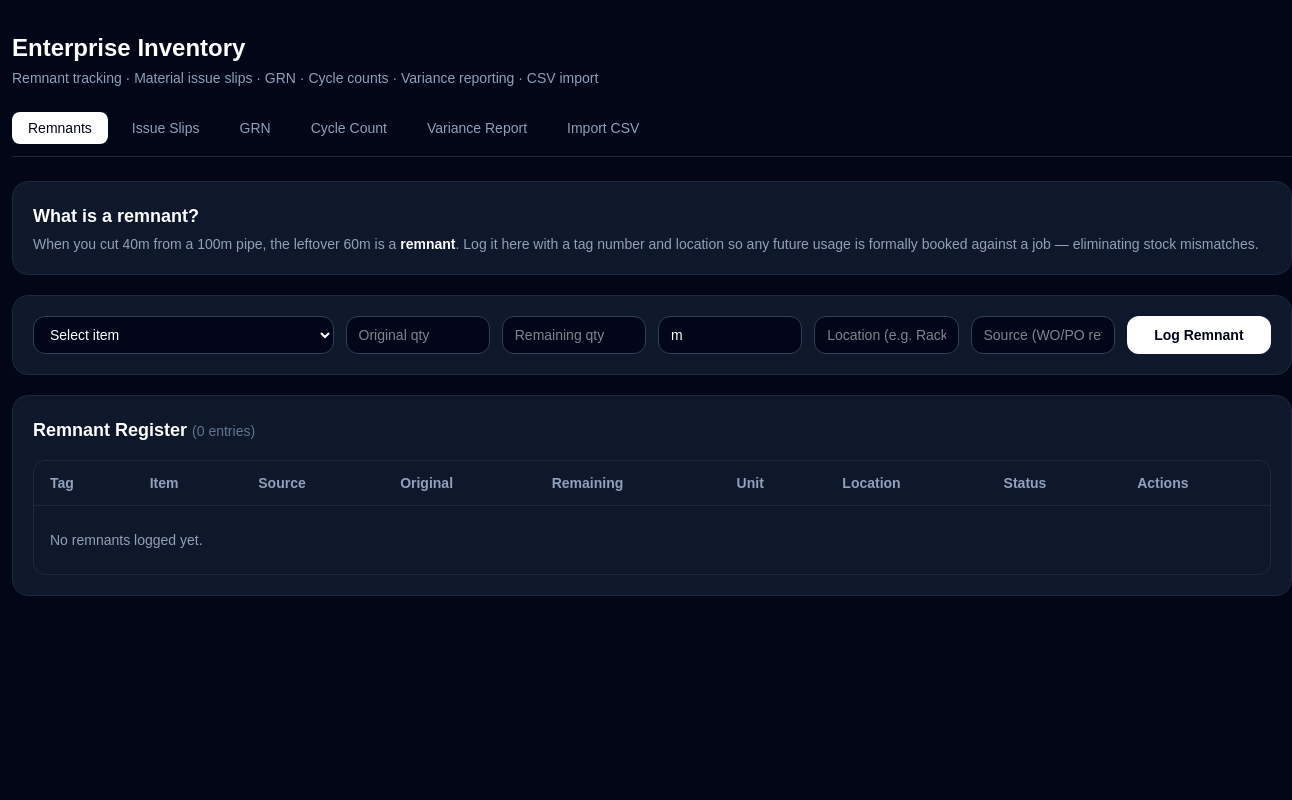
Test: an Admin is offered everything › including the count approval and the CSV import
The image size is (1292, 800).
Click the button "Cycle Count" at coordinates (349, 128), box x1=295 y1=112 x2=403 y2=144
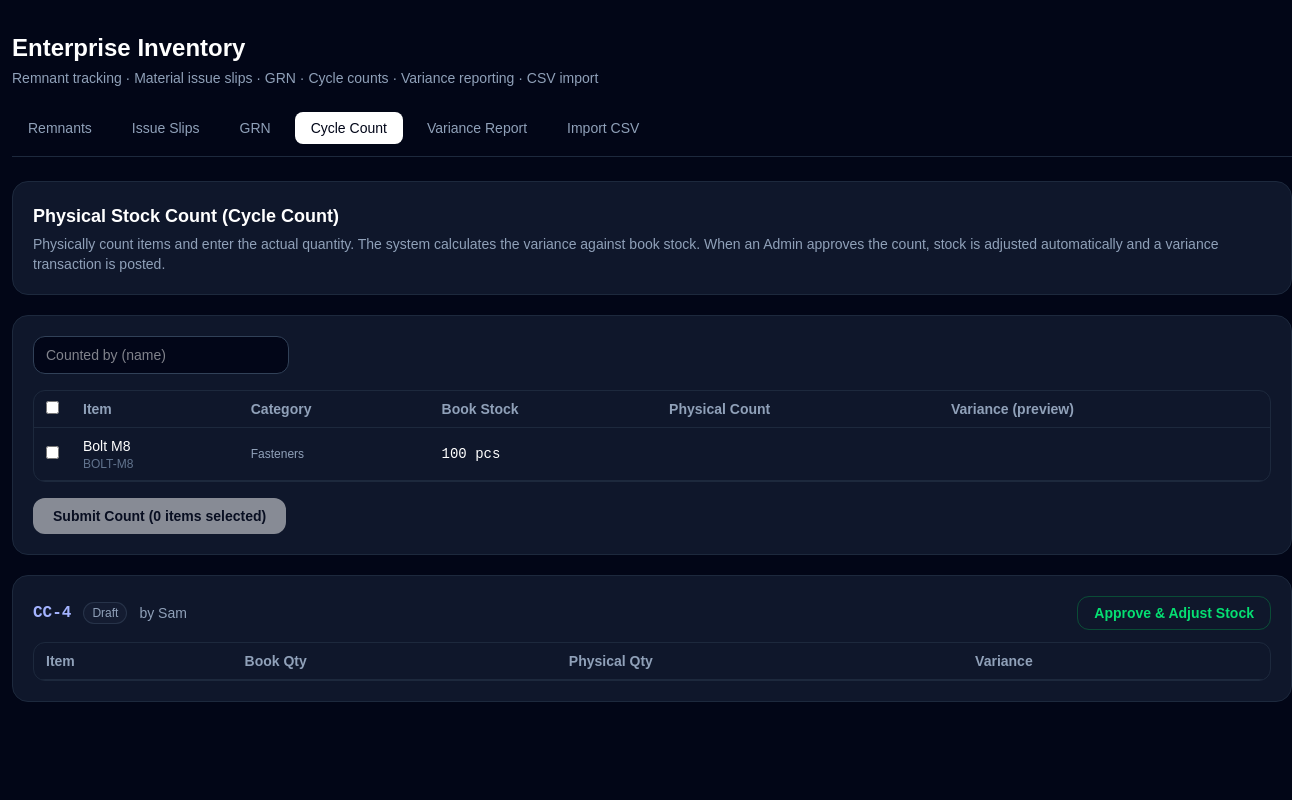
Expected: the button "Import CSV" is shown, x1=551 y1=112 x2=655 y2=144
Expected: the text "CC-4" is shown, x1=33 y1=601 x2=71 y2=625
Expected: the button "Approve & Adjust Stock" is shown, x1=1077 y1=596 x2=1271 y2=630
